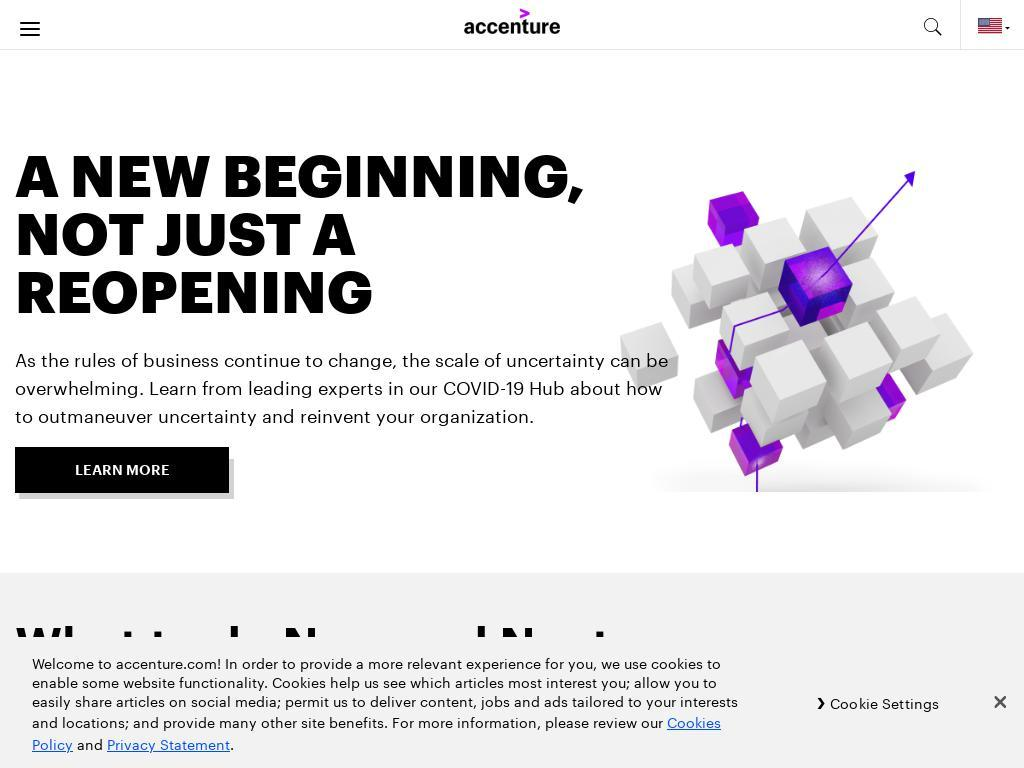button: (15, 701, 327, 768), (356, 701, 668, 768), (697, 701, 1009, 768), (15, 427, 230, 499), (807, 681, 940, 725), (960, 0, 1024, 51)
heading: (15, 149, 678, 323), (15, 622, 612, 671)
image: (15, 701, 327, 768), (356, 701, 668, 768), (697, 701, 1009, 768), (32, 472, 221, 486), (464, 8, 560, 34), (977, 16, 1002, 33)
link: (32, 711, 721, 756), (840, 645, 1009, 662), (107, 733, 230, 756)
text: (32, 652, 738, 734), (15, 343, 678, 428), (15, 447, 230, 494), (73, 733, 107, 756), (230, 733, 234, 756)
